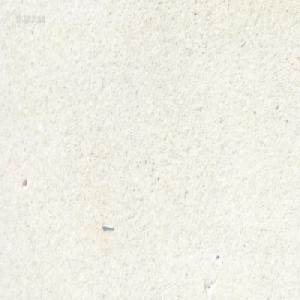Nail: (99, 221, 114, 230)
